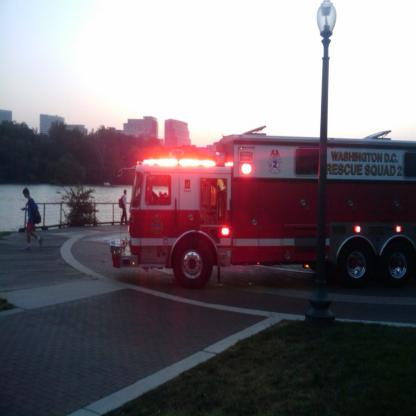Truck: (109, 125, 415, 289)
